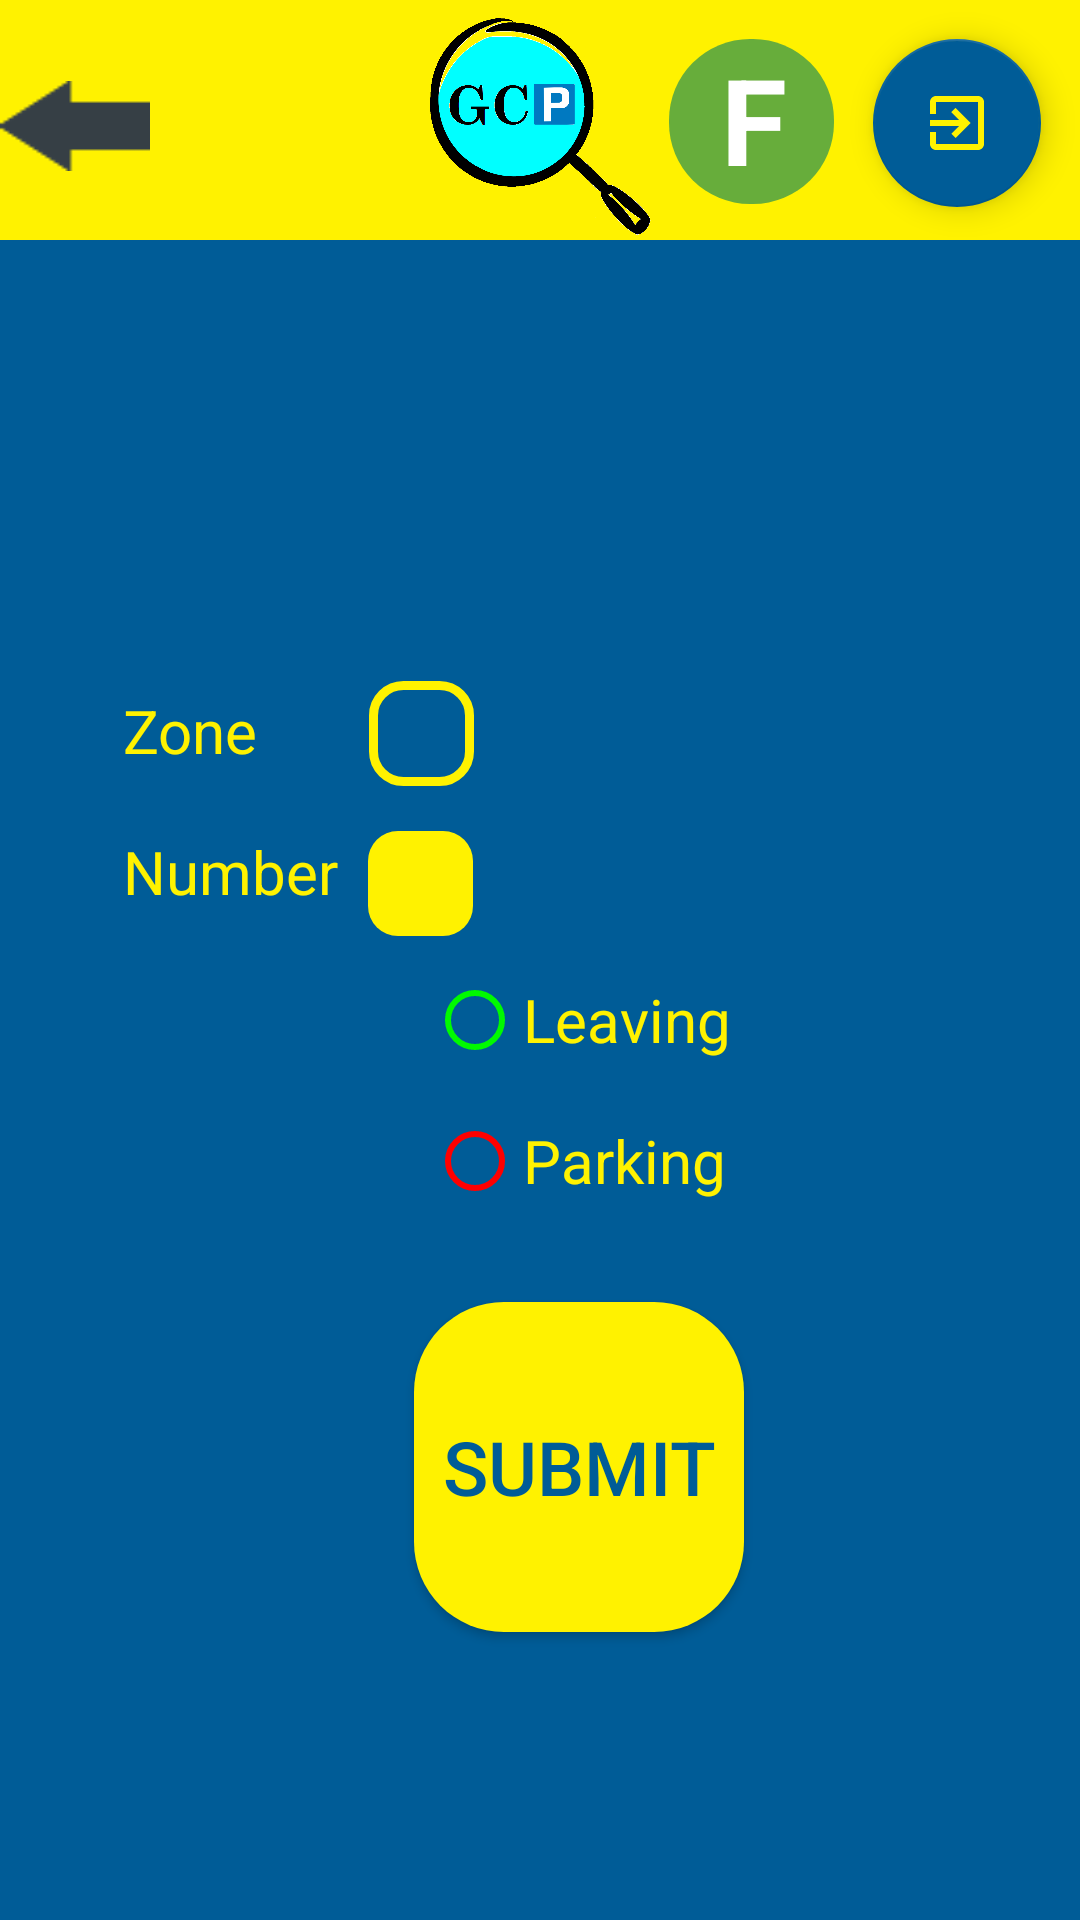

Screen size 1080w x 1920h. Icon name, then its center in pixels as point (x, y):
back: point (75, 126)
exit: point (957, 123)
